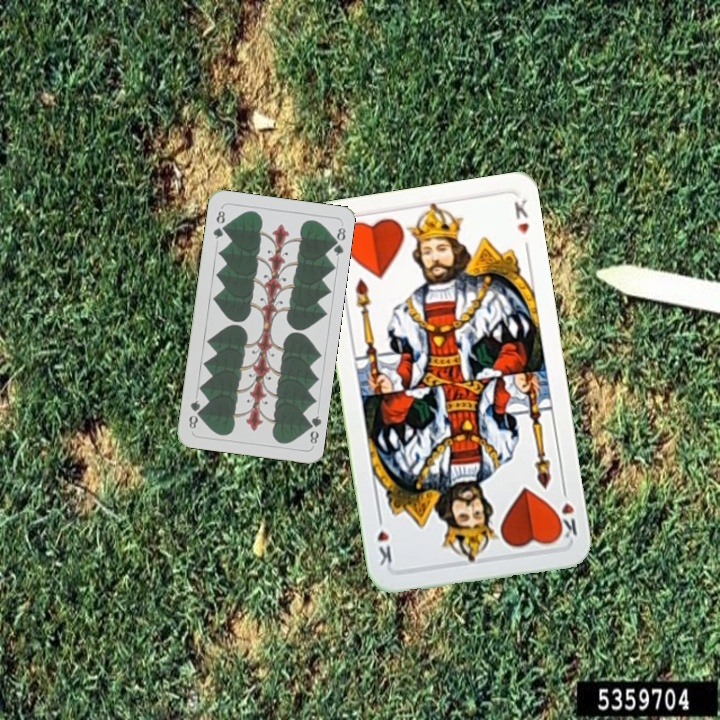G8: (302, 412, 323, 446), (209, 206, 228, 241)
HK: (552, 482, 580, 542)
